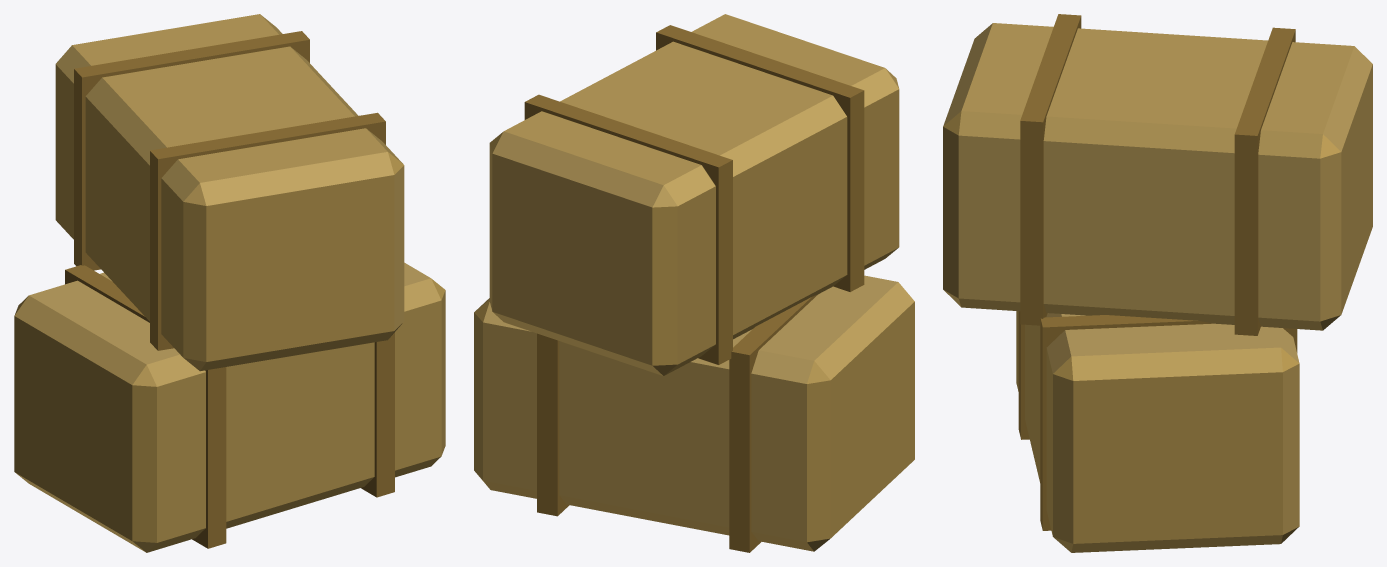
Rendered from Haybale.glb.
The picture shows the model from 3 angles, left to right: view 1: azimuth 30°, elevation 25°; view 2: azimuth 150°, elevation 25°; view 3: azimuth 270°, elevation 25°; orthographic projection. The views are drawn at different scales.
Visible parts, largest first — view 1: Body; view 2: Body; view 3: Body.
Boxes of the visible parts, left/top/right/bottom form: Body: left=14, top=14, right=445, bottom=552; Body: left=474, top=14, right=914, bottom=552; Body: left=943, top=14, right=1372, bottom=552.
Bounding box in the file's own units: 2.72 × 2.85 × 2.77.
